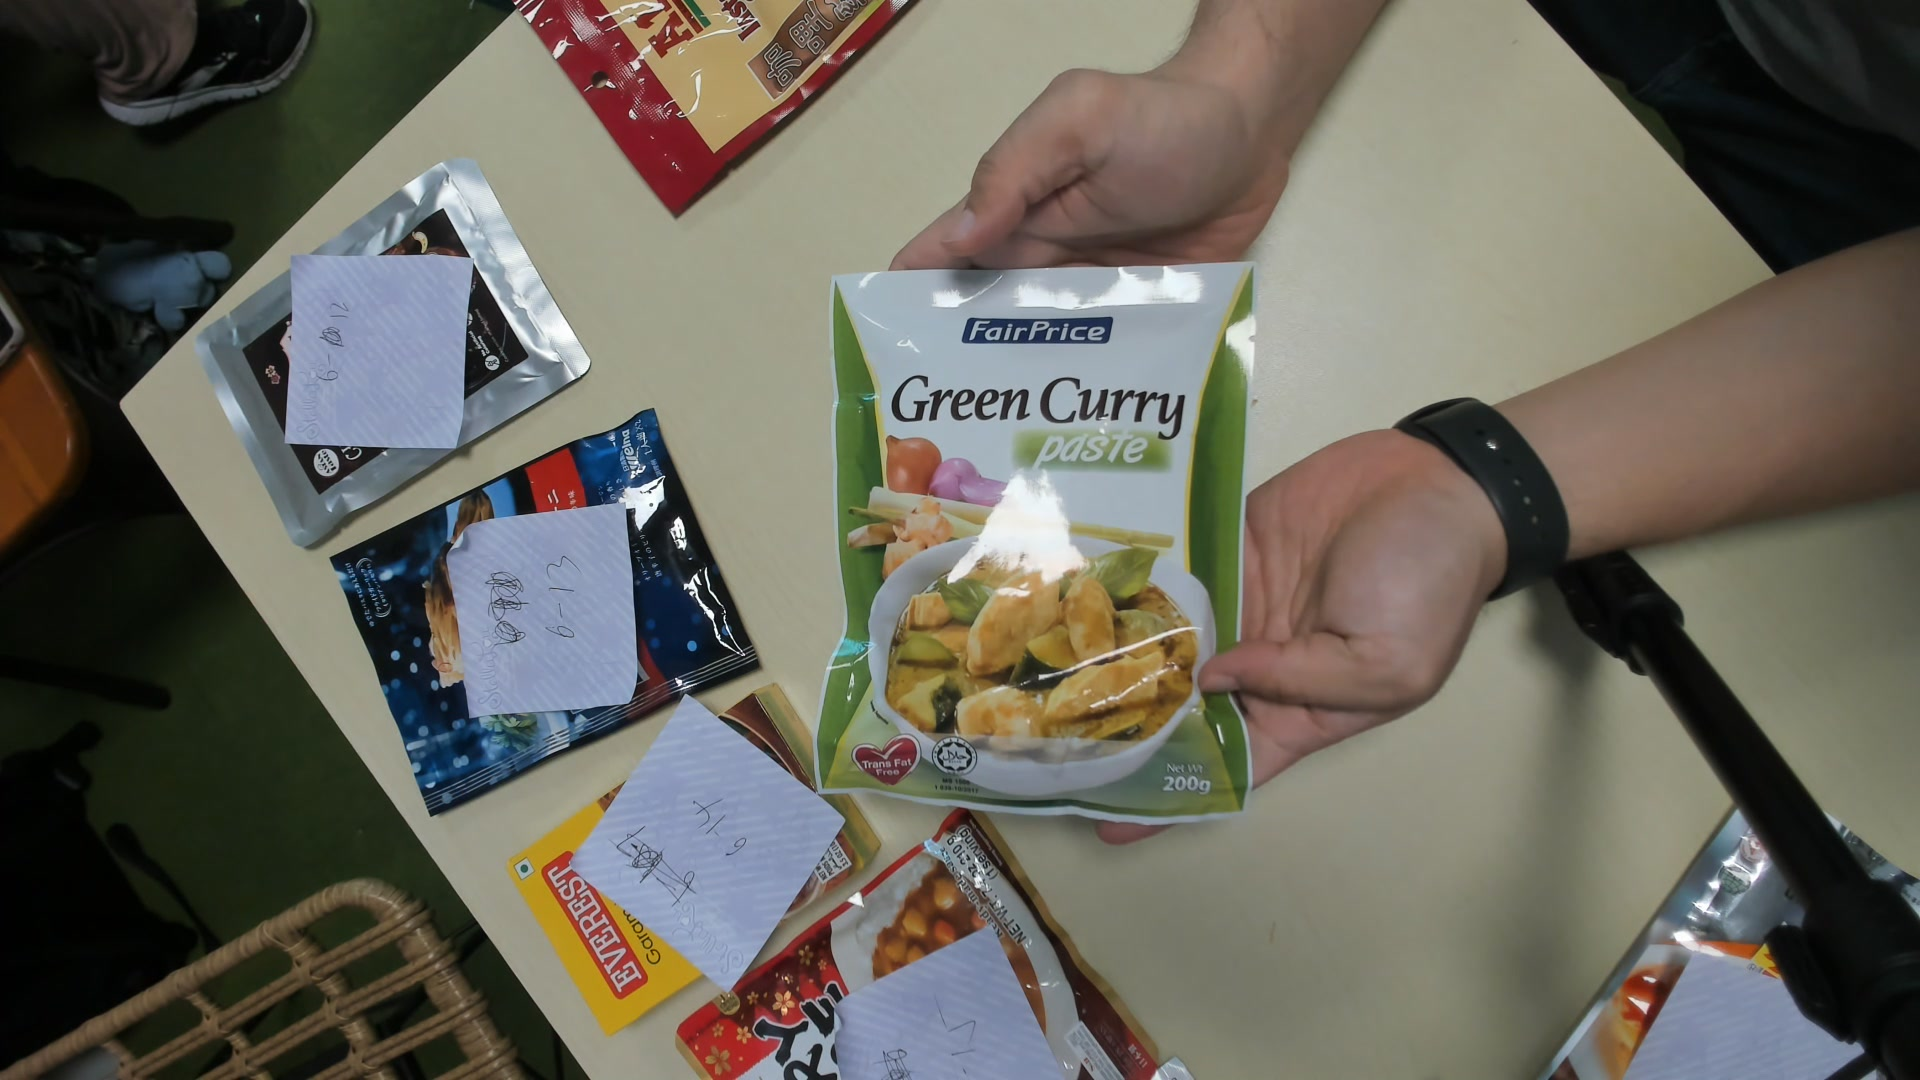CurryPastePowderSauce_200-299g_Halal_NonHealthy: (828, 268, 1246, 822)
